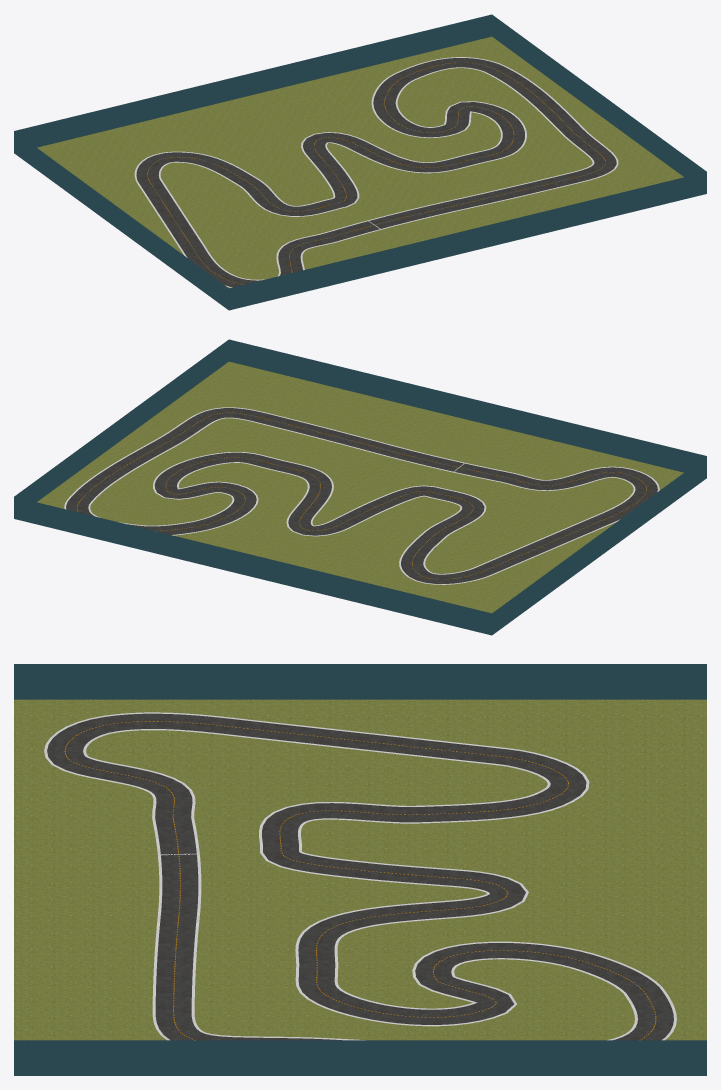
File: penbay_pro_cw.dae
3 views of the same model, one above another, from view 1: azimuth 30°, elevation 25°; view 2: azimuth 150°, elevation 25°; view 3: azimuth 270°, elevation 25° (orthographic). The views are drawn at different scales.
Parts seen in each view (by area): view 1: field, wall, road, il, ol, cl; view 2: field, wall, road, ol, il, cl; view 3: field, wall, road, ol, il, cl.
Part boxes in pixels (box(x1,y1,x2,y2)): field: box(37, 36, 683, 288); wall: box(14, 14, 706, 310); road: box(136, 58, 616, 287); il: box(134, 57, 618, 287); ol: box(158, 67, 594, 280); cl: box(147, 62, 605, 284); field: box(37, 361, 683, 613); wall: box(14, 339, 706, 635); road: box(66, 408, 657, 584); ol: box(88, 417, 635, 574); il: box(64, 407, 659, 584); cl: box(77, 412, 646, 579); field: box(14, 699, 706, 1040); wall: box(14, 664, 706, 1075); road: box(47, 713, 673, 1040); ol: box(83, 729, 637, 1040); il: box(44, 712, 676, 1040); cl: box(64, 721, 656, 1040).
Size of the model in its own units: 22.59 by 17.59 by 1.
7 materials, 7 textured.
